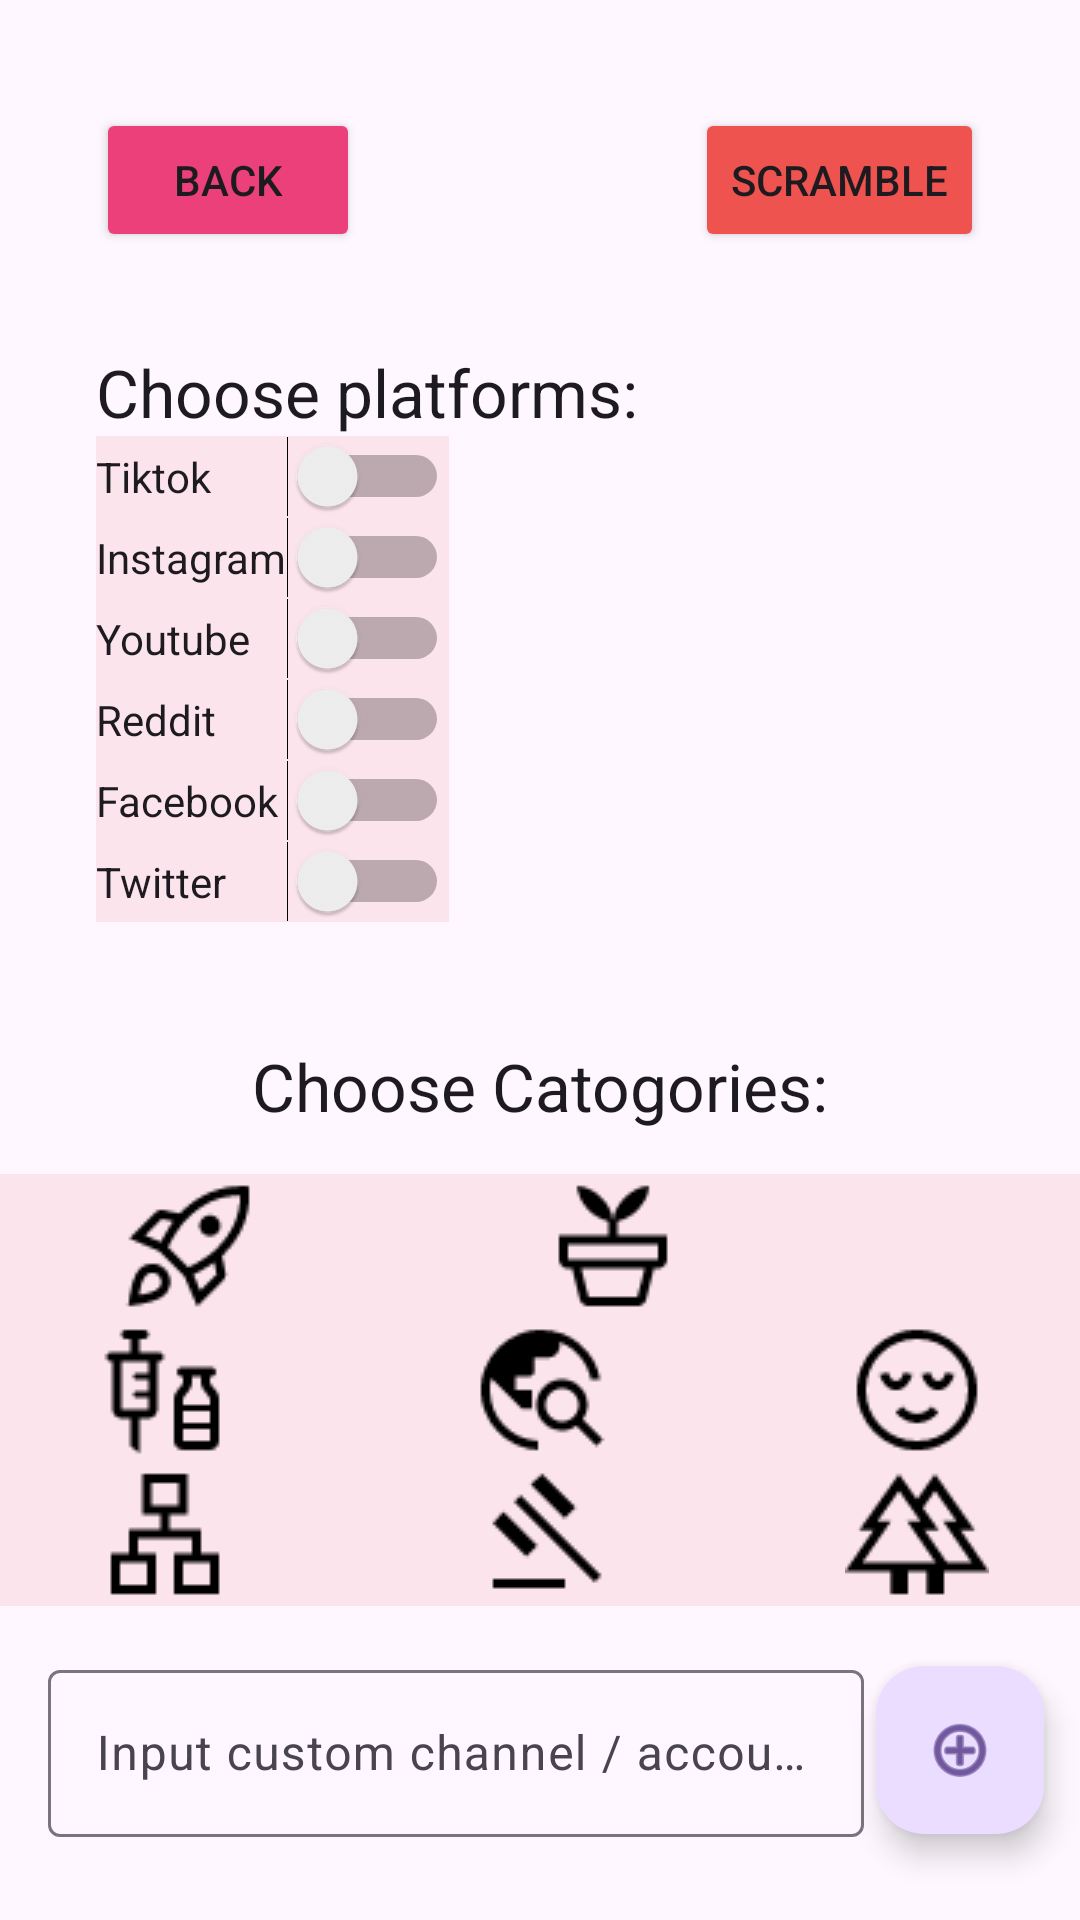

Where to tap for icons on this 1080px x 1920px app screen, as point (x, y):
add: point (960, 1750)
forest: point (917, 1534)
gavel: point (547, 1531)
lan: point (165, 1534)
potted plant: point (613, 1246)
rocket launch: point (188, 1246)
sentiment calm: point (917, 1390)
travel explore: point (542, 1390)
vaccines: point (162, 1391)
